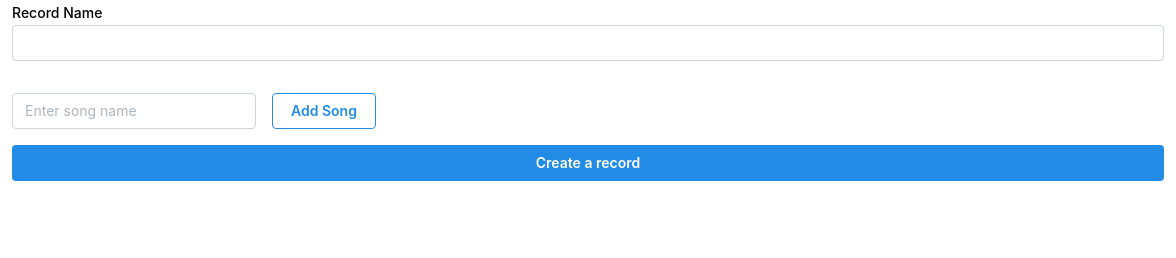
Record Dialog › Displays validation error
The image size is (1176, 258).
Click the button "Create a record".
click(588, 163)  # box x1=12 y1=145 x2=1164 y2=181
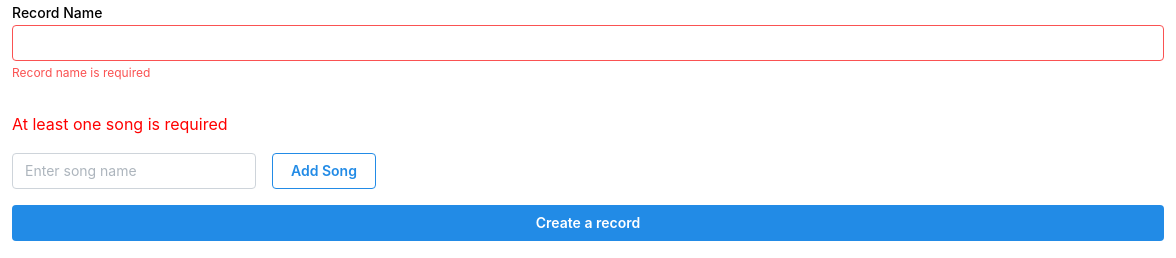
Now the text "Record name is required" is shown, box x1=12 y1=65 x2=150 y2=80
